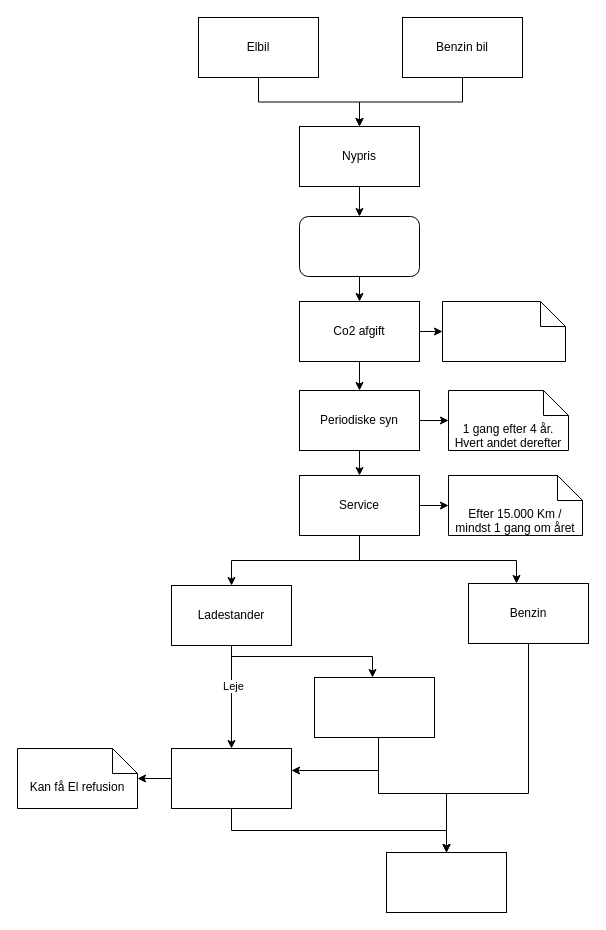
Image size: 606x930. Some labels were removed from this diagram. Each missing label, with the centre of its shape:
"abonnement" belongs at [231,778].
"Eje" belongs at [374,707].
"Forsikring" belongs at [359,246].
"Pris" belongs at [446,882].
"Stiger hvert år indtil 2026" belongs at [504,331].
